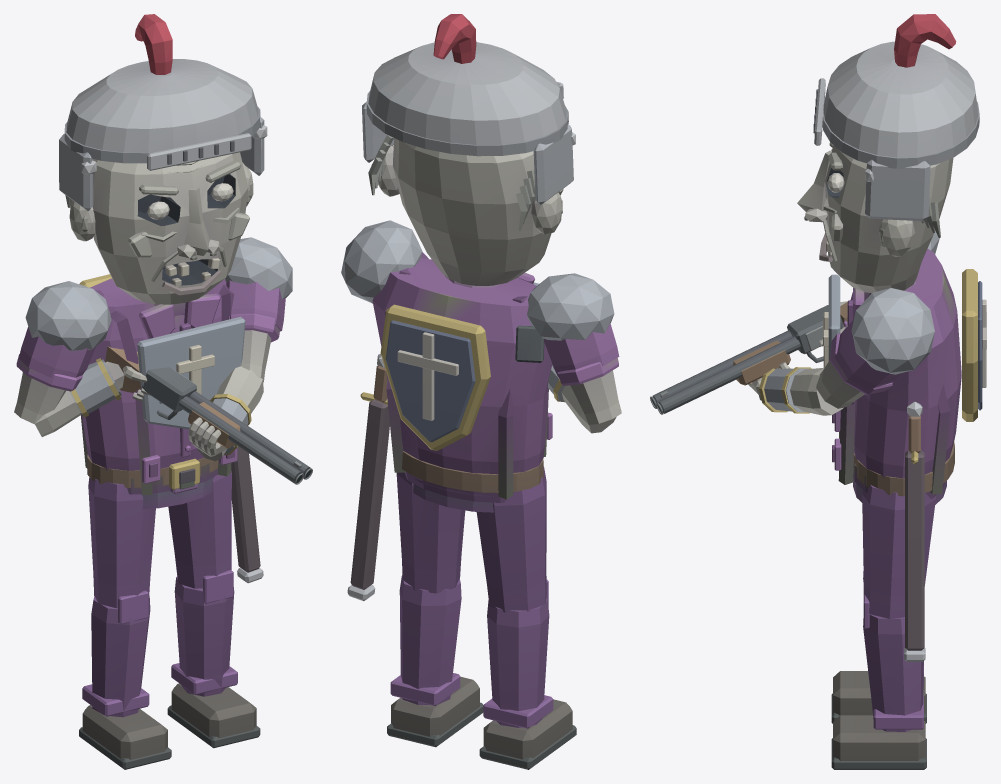
Rendered from GrandfatherKnight.glb.
3 views of the same model, side by side, from view 1: azimuth 30°, elevation 25°; view 2: azimuth 150°, elevation 25°; view 3: azimuth 270°, elevation 25° (orthographic). The views are drawn at different scales.
Parts seen in each view (by area): view 1: Head, Body, LegR, LegL, ArmR, ArmL; view 2: Head, Body, LegR, LegL, ArmR, ArmL; view 3: Head, Body, LegL, ArmL, LegR.
Boxes of the visible parts, left/top/right/bottom form: Head: left=59, top=14, right=267, bottom=304; Body: left=79, top=274, right=312, bottom=583; LegR: left=79, top=477, right=171, bottom=769; LegL: left=167, top=471, right=260, bottom=748; ArmR: left=14, top=281, right=150, bottom=436; ArmL: left=188, top=237, right=292, bottom=461; Head: left=362, top=14, right=575, bottom=285; Body: left=347, top=258, right=552, bottom=601; LegR: left=476, top=466, right=576, bottom=769; LegL: left=387, top=472, right=483, bottom=747; ArmR: left=527, top=273, right=621, bottom=433; ArmL: left=341, top=220, right=428, bottom=303; Head: left=797, top=14, right=979, bottom=293; Body: left=650, top=248, right=986, bottom=661; LegL: left=831, top=485, right=935, bottom=769; ArmL: left=748, top=288, right=934, bottom=415; LegR: left=831, top=571, right=926, bottom=723.
Size of the model in its own units: 2.76 by 6.96 by 2.94.
